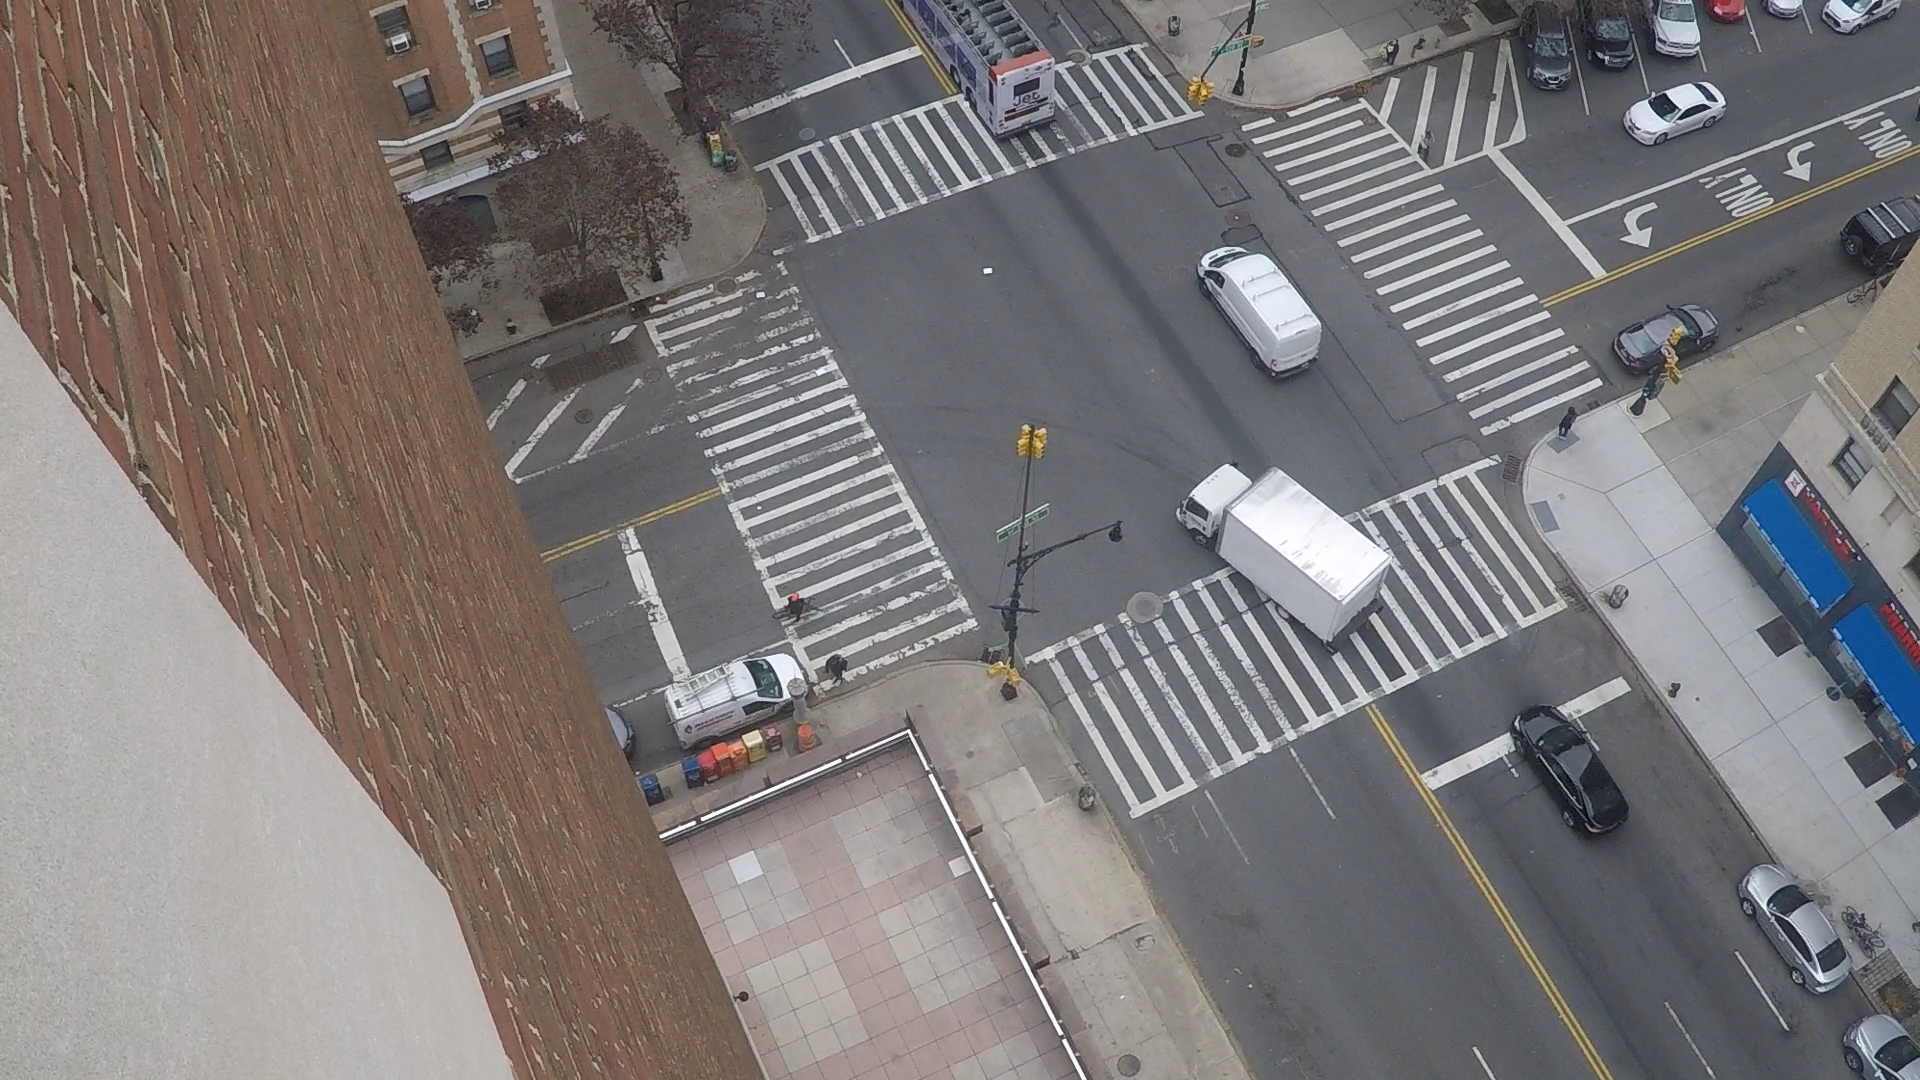Bus: (894, 0, 998, 140)
Car: (604, 705, 622, 750), (1635, 0, 1636, 18), (1760, 0, 1762, 8)
